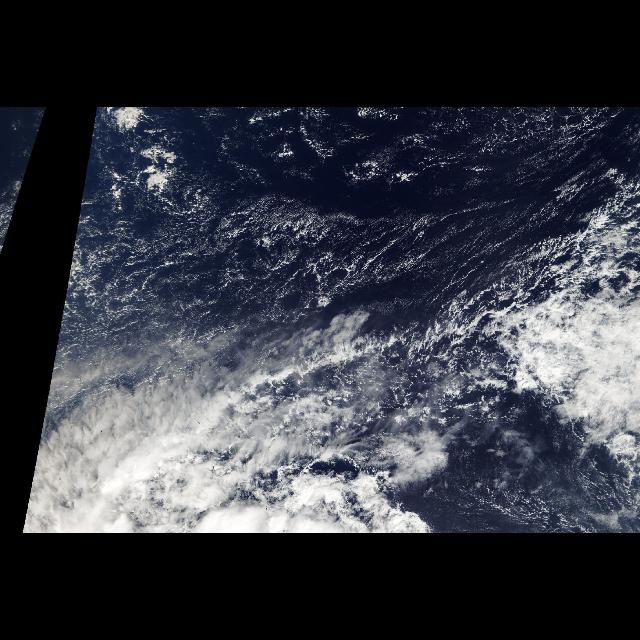Gravel: (268, 296, 520, 462)
Sugar: (98, 120, 578, 322)
